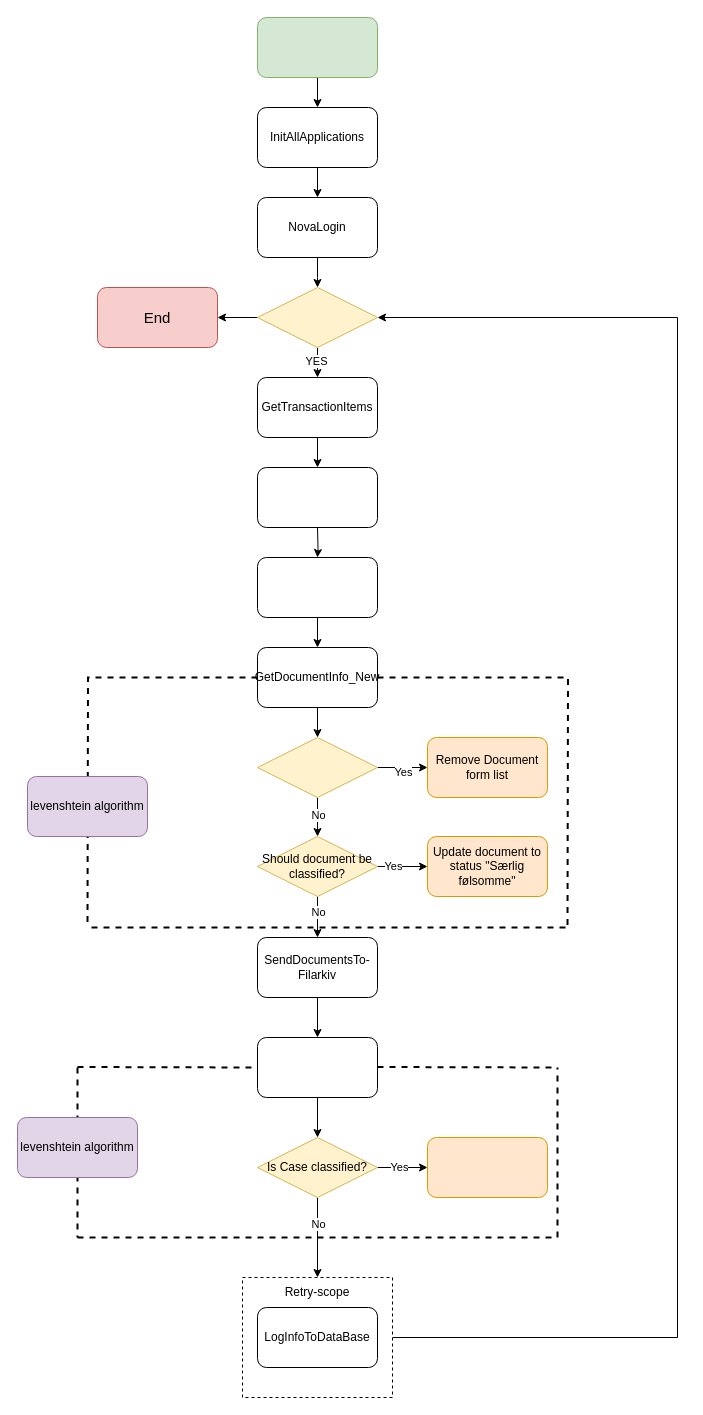
Image size: 703x1415. Some labels were removed from this diagram. Here are the shapes that lost their labels. From the top down, the box of each, then its label:
(256, 16, 378, 78): Start
(256, 286, 378, 348): DataInQueue?
(256, 466, 378, 528): GetCaseAnd- DocumentInfo
(256, 556, 378, 618): GetCaseUuid
(256, 736, 378, 798): IsDocumentOn Blacklist?
(256, 1036, 378, 1098): CheckIfCaseIs Classified
(426, 1136, 548, 1198): Update Case to classifed
